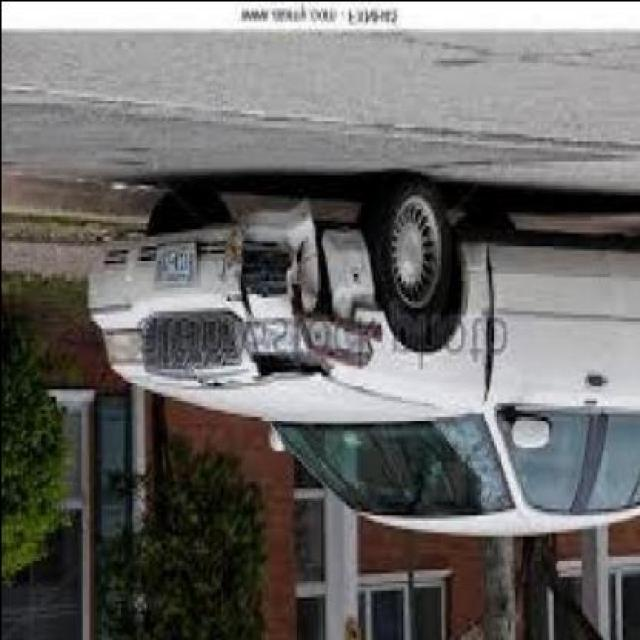damage: (222, 198, 505, 411)
